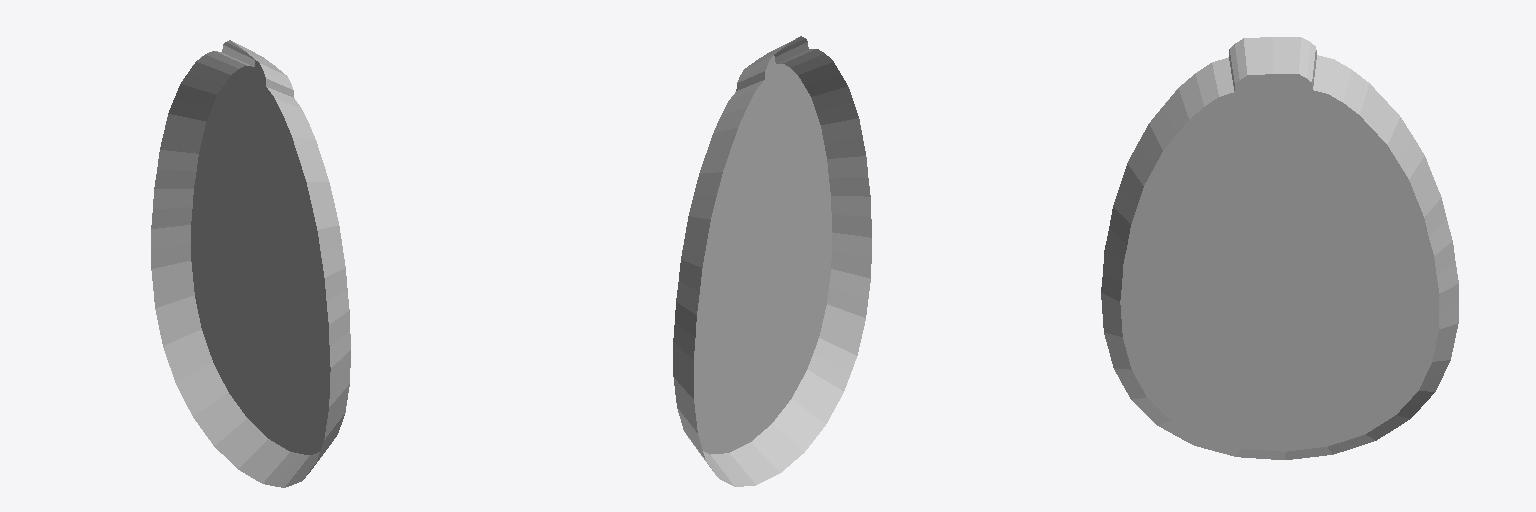
Rendered from seedsT.obj.
3 renders of one model, left to right at view 1: azimuth 30°, elevation 25°; view 2: azimuth 150°, elevation 25°; view 3: azimuth 270°, elevation 25°, orthographic.
Parts seen in each view (by area): view 1: SEED_Circle; view 2: SEED_Circle; view 3: SEED_Circle.
Boxes of the visible parts, x1=… form: SEED_Circle: x1=151, y1=40, x2=350, y2=487; SEED_Circle: x1=673, y1=36, x2=871, y2=486; SEED_Circle: x1=1101, y1=37, x2=1458, y2=459.
Bounding box in the file's own units: 0.1264 × 1.67 × 1.28.